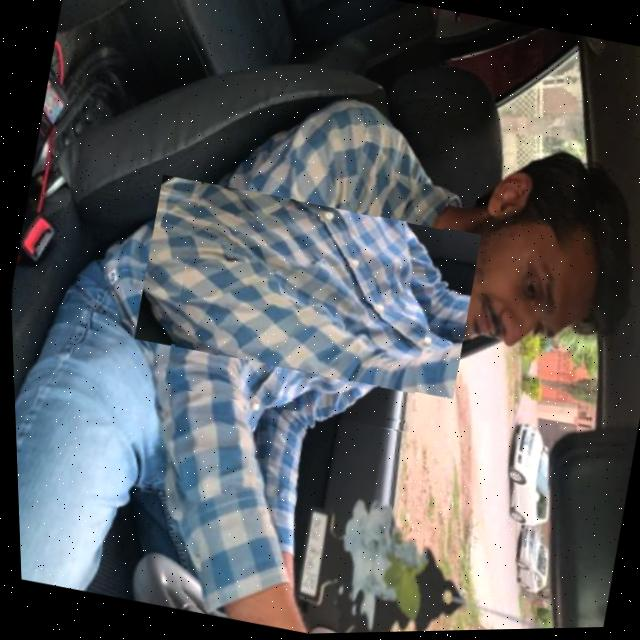no-seatbelt: (153, 139, 455, 438)
